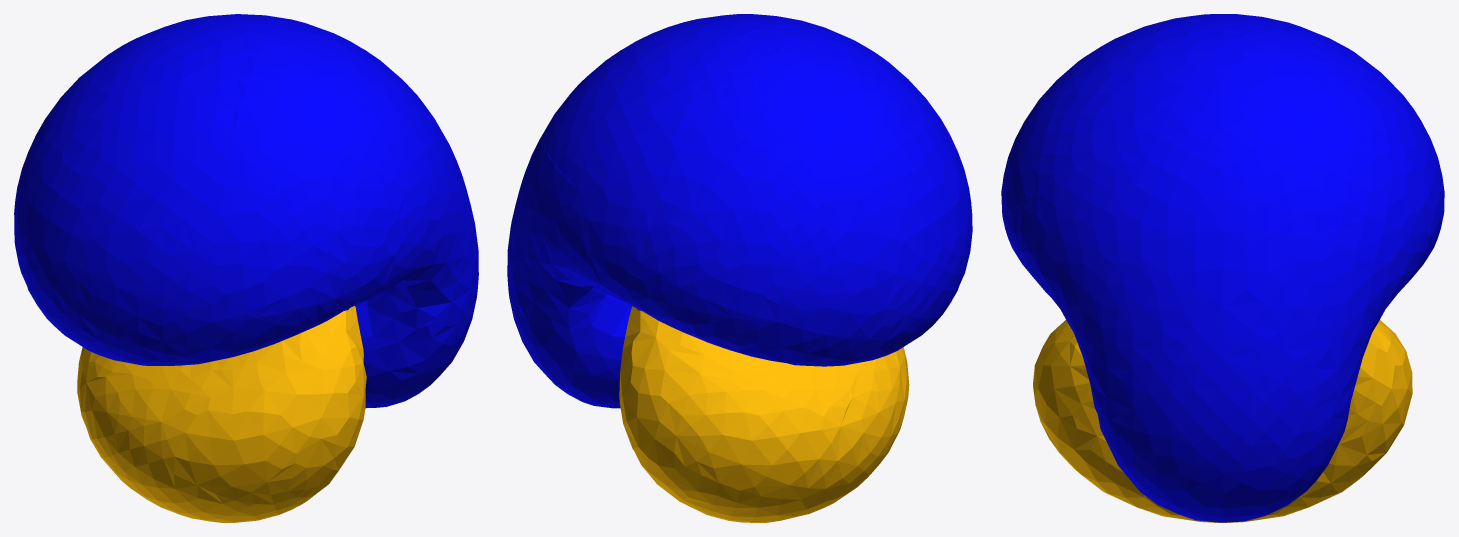
3 renders of one model, left to right at view 1: azimuth 30°, elevation 25°; view 2: azimuth 150°, elevation 25°; view 3: azimuth 270°, elevation 25°, orthographic. The views are drawn at different scales.
Size of the model in its own units: 21.55 by 22.91 by 18.84.
